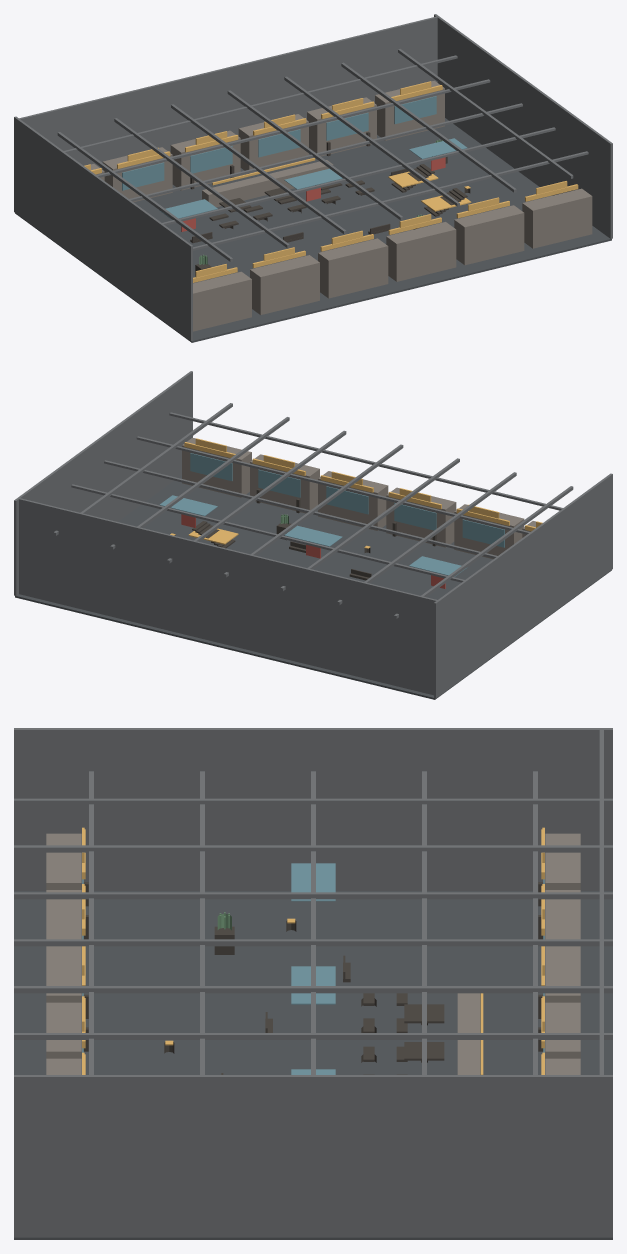
File: mall-lowpoly.glb
The picture shows the model from 3 angles, top to bottom: view 1: azimuth 30°, elevation 25°; view 2: azimuth 150°, elevation 25°; view 3: azimuth 270°, elevation 25°; orthographic projection. The views are drawn at different scales.
Parts seen in each view (by area): view 1: LowPolyMall; view 2: LowPolyMall; view 3: LowPolyMall.
Boxes of the visible parts, x1,y1,x2,y2 form: LowPolyMall: [14, 14, 612, 342]; LowPolyMall: [14, 371, 612, 699]; LowPolyMall: [14, 728, 612, 1239].
Bounding box in the file's own units: 74.4 × 16.3 × 54.
